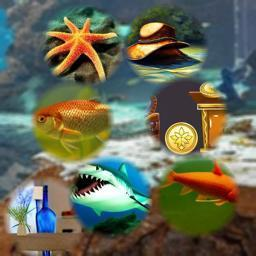not an animal: (21, 183, 68, 251), (132, 21, 189, 67)
treasure: (156, 86, 228, 153)
